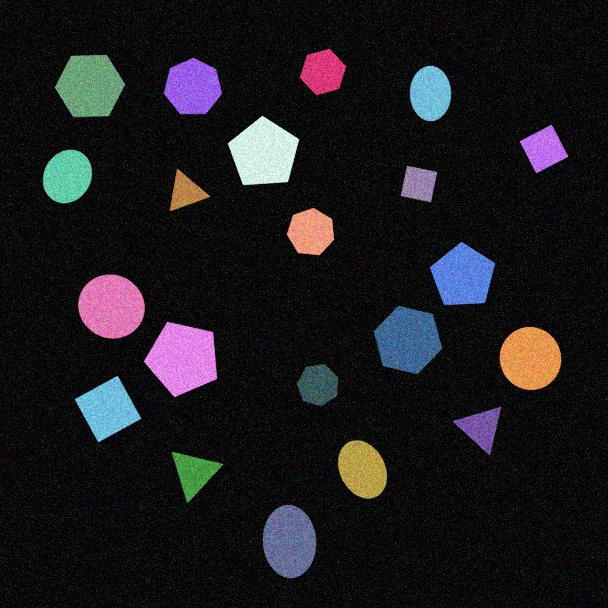Circulo: (77, 274, 146, 339), (499, 326, 562, 391), (42, 149, 93, 204)
Elipse: (262, 504, 317, 579), (337, 439, 388, 500), (409, 65, 452, 122)
Heptagono: (163, 57, 223, 115), (286, 207, 335, 256), (296, 363, 339, 407)
Hexagono: (373, 305, 443, 375), (54, 54, 126, 118), (299, 48, 347, 96)
Pentagono: (143, 321, 218, 398), (227, 115, 300, 186), (429, 241, 496, 306)
Quadrado: (74, 375, 142, 443), (519, 124, 569, 174), (400, 165, 438, 203)
Triangulo: (171, 451, 224, 504), (453, 406, 502, 456), (169, 168, 211, 212)
